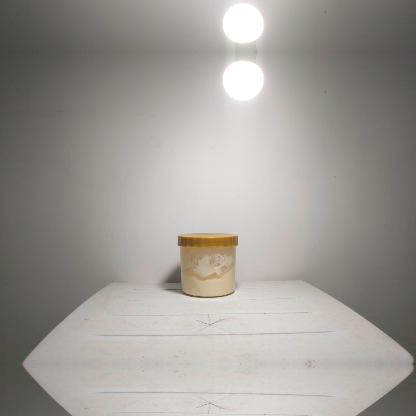Lady-s-Choice: (176, 230, 240, 298)
